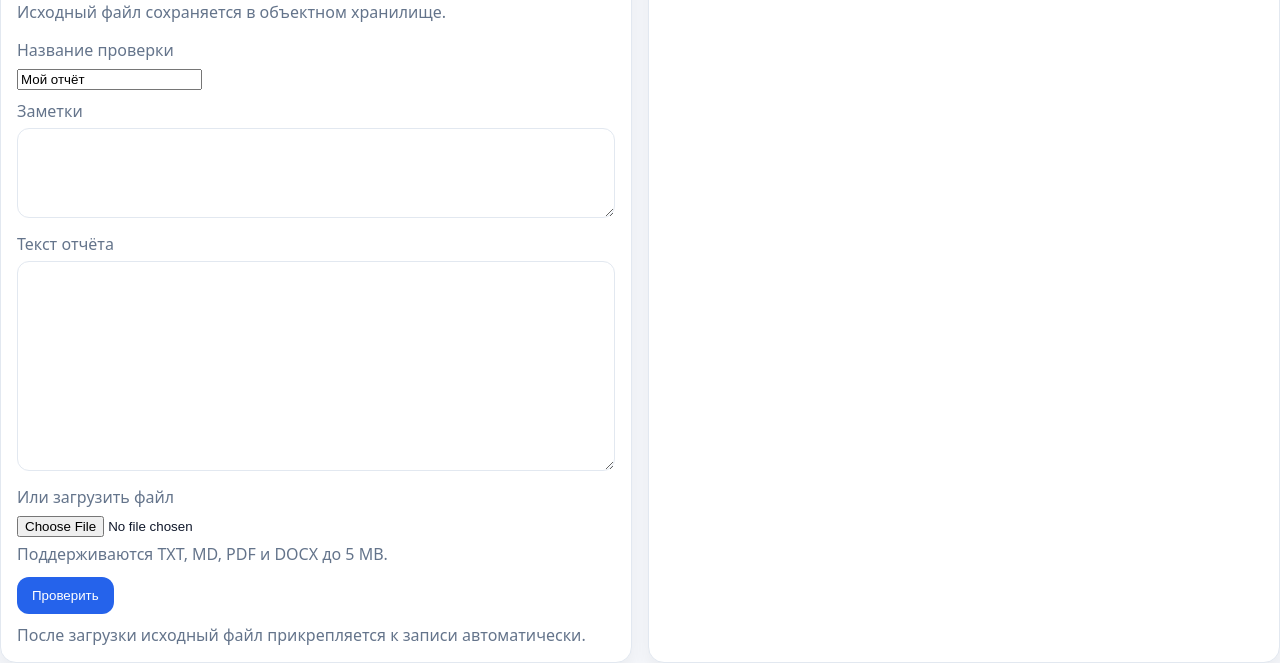
Test: Validate › shows auth error when guest submits
This screenshot has width=1280, height=663.
(page scrolled)
Click the button "Проверить" at (65, 595), box [17,577,114,614]
(page scrolled)
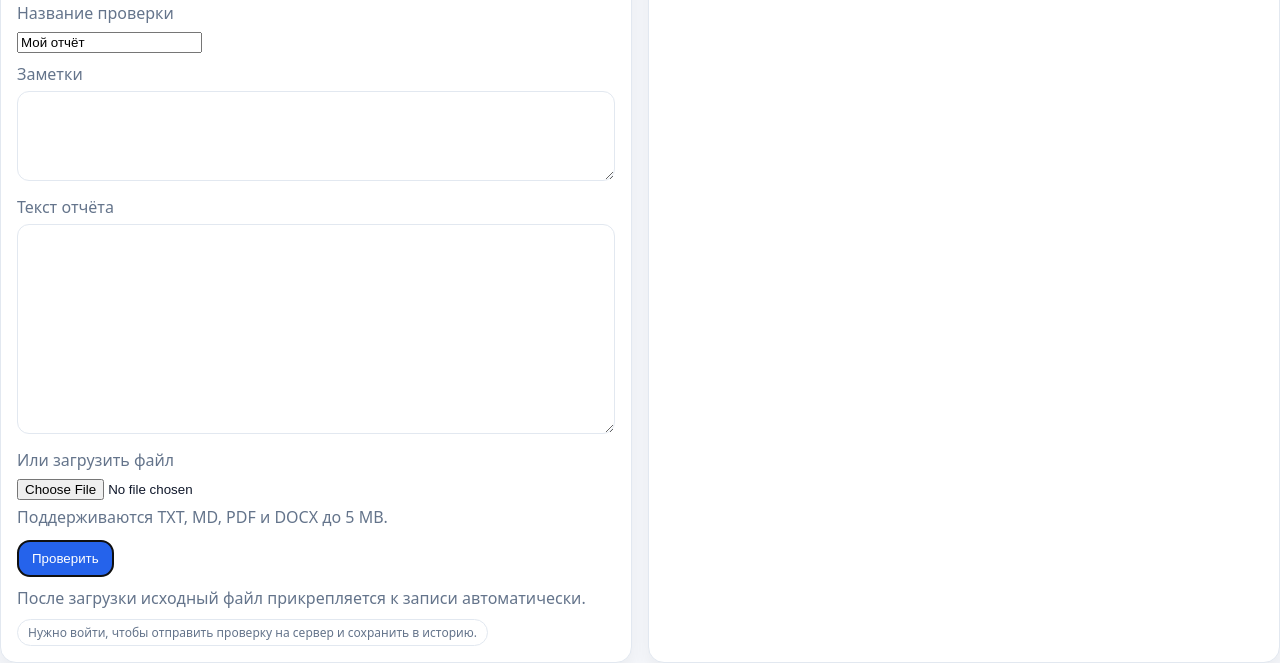
Now the text "Нужно войти" is shown, box [28,624,477,641]
